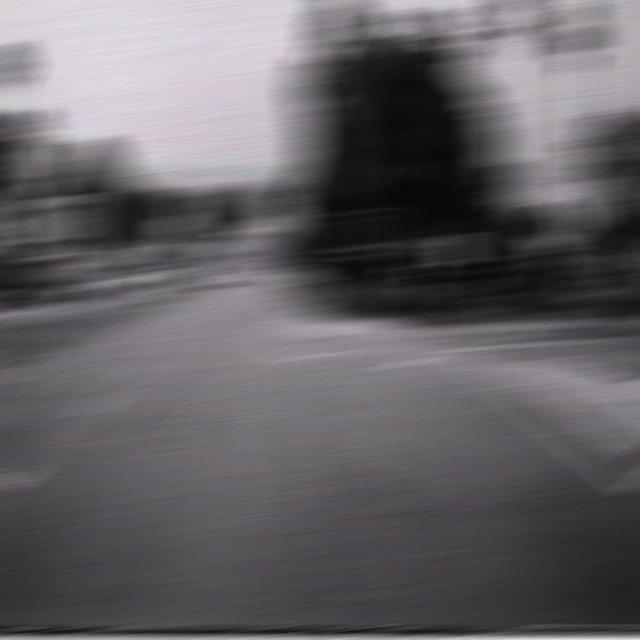pedestrianCrossing: (589, 231, 638, 286)
